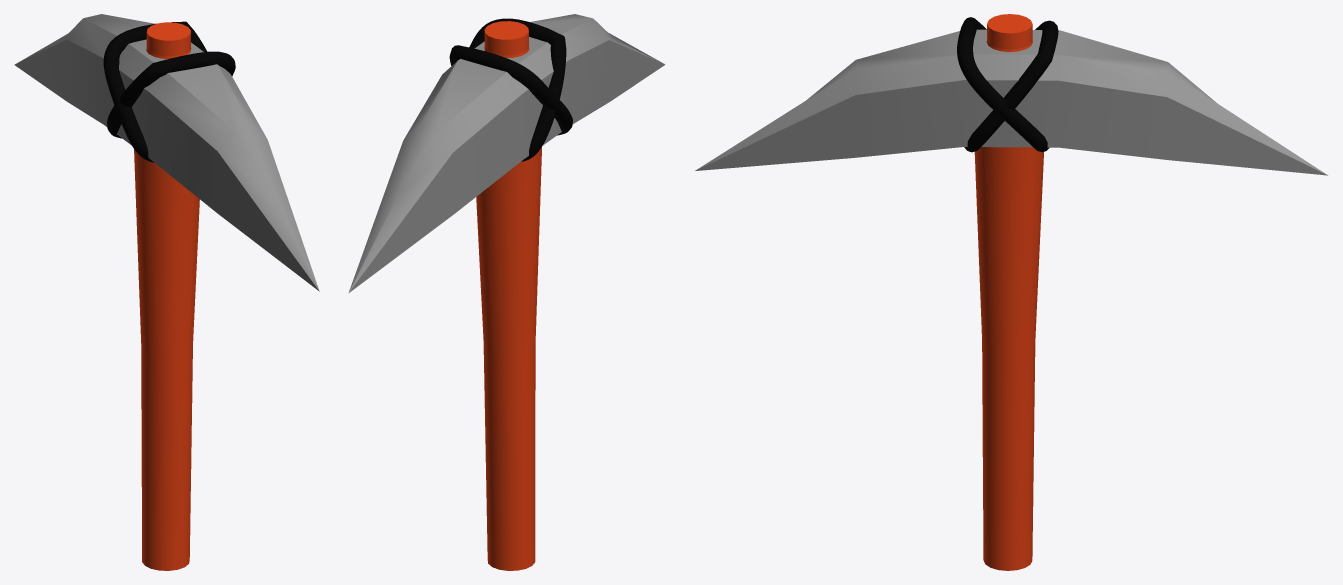
Rendered from Pickaxe.fbx.
3 views of the same model, side by side, from view 1: azimuth 30°, elevation 25°; view 2: azimuth 150°, elevation 25°; view 3: azimuth 270°, elevation 25° (orthographic). The views are drawn at different scales.
Parts seen in each view (by area): view 1: Cylinder; view 2: Cylinder; view 3: Cylinder.
Boxes of the visible parts, bbox=[...] form: Cylinder: bbox=[14, 14, 319, 570]; Cylinder: bbox=[348, 14, 665, 570]; Cylinder: bbox=[695, 14, 1327, 570].
Size of the model in its own units: 18.43 by 88.51 by 94.38.
